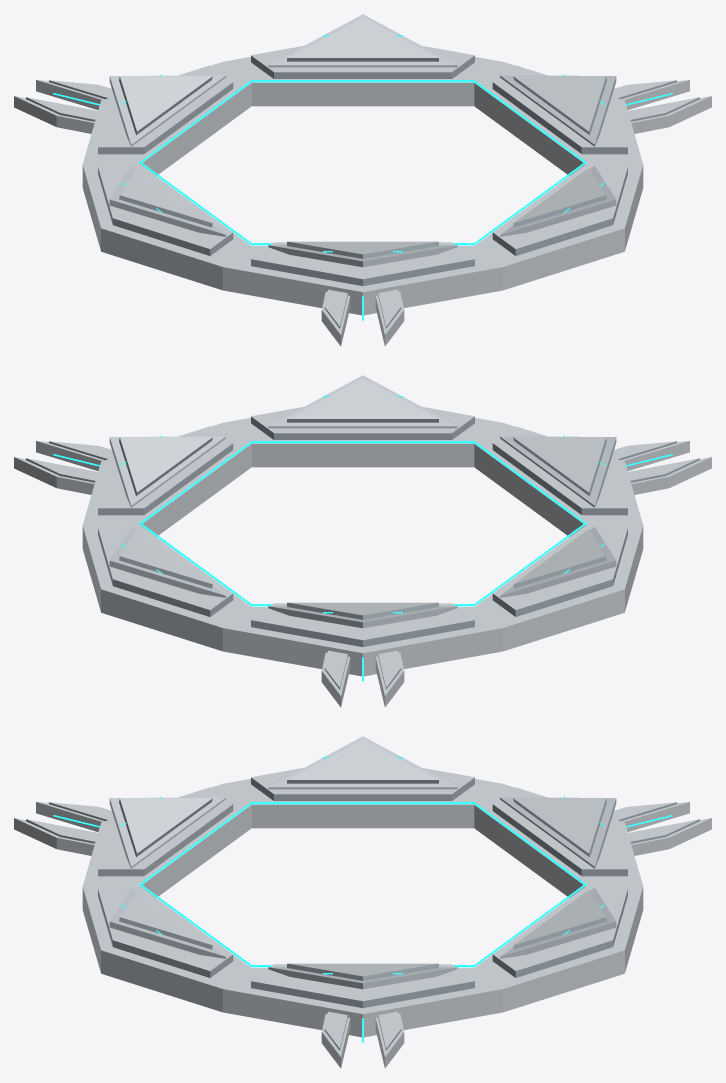
File: orbital_ring.glb
3 renders of one model, top to bottom at view 1: azimuth 30°, elevation 25°; view 2: azimuth 150°, elevation 25°; view 3: azimuth 270°, elevation 25°, orthographic.
Visible parts, largest first — view 1: 01_orbital_ring__structure; view 2: 01_orbital_ring__structure; view 3: 01_orbital_ring__structure.
Part boxes in pixels (box(x1,y1,x2,y2)): 01_orbital_ring__structure: box(14, 14, 711, 346); 01_orbital_ring__structure: box(14, 375, 711, 707); 01_orbital_ring__structure: box(14, 736, 711, 1068).
Bounding box in the file's own units: 159 × 13.15 × 160.
